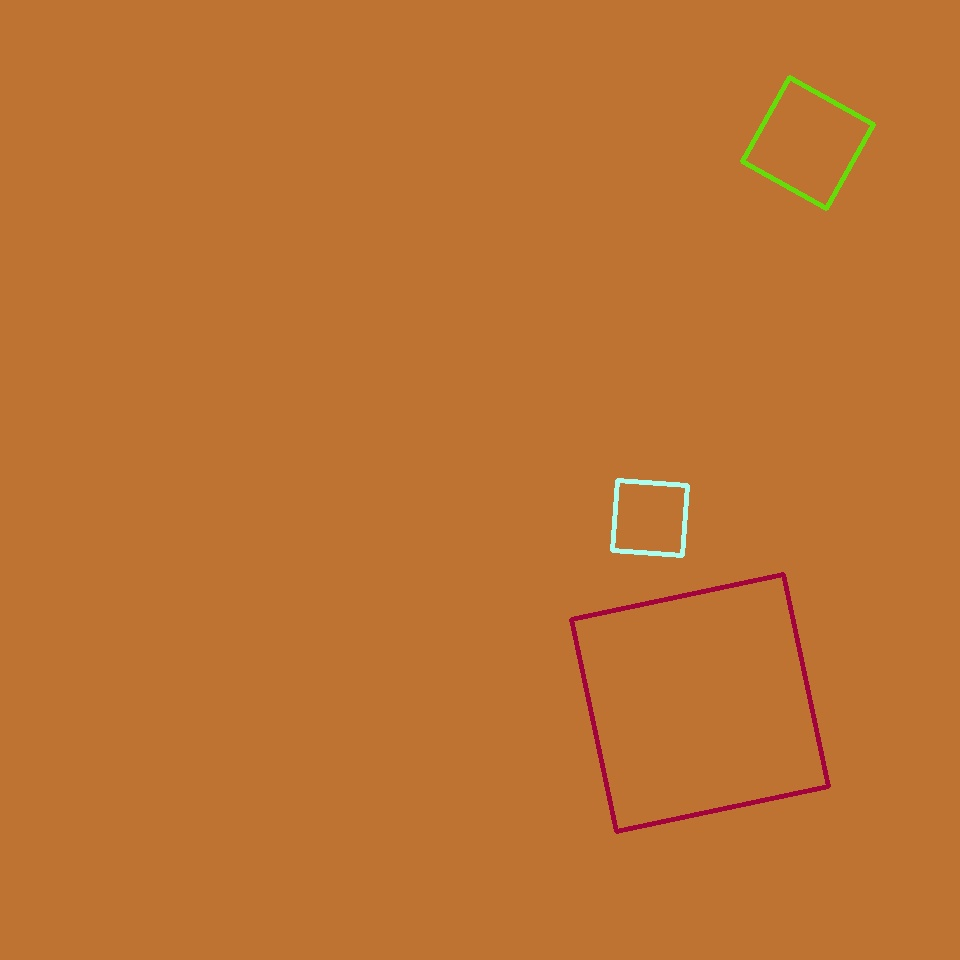square: (571, 574, 828, 832), (742, 78, 874, 208), (612, 480, 688, 556)
